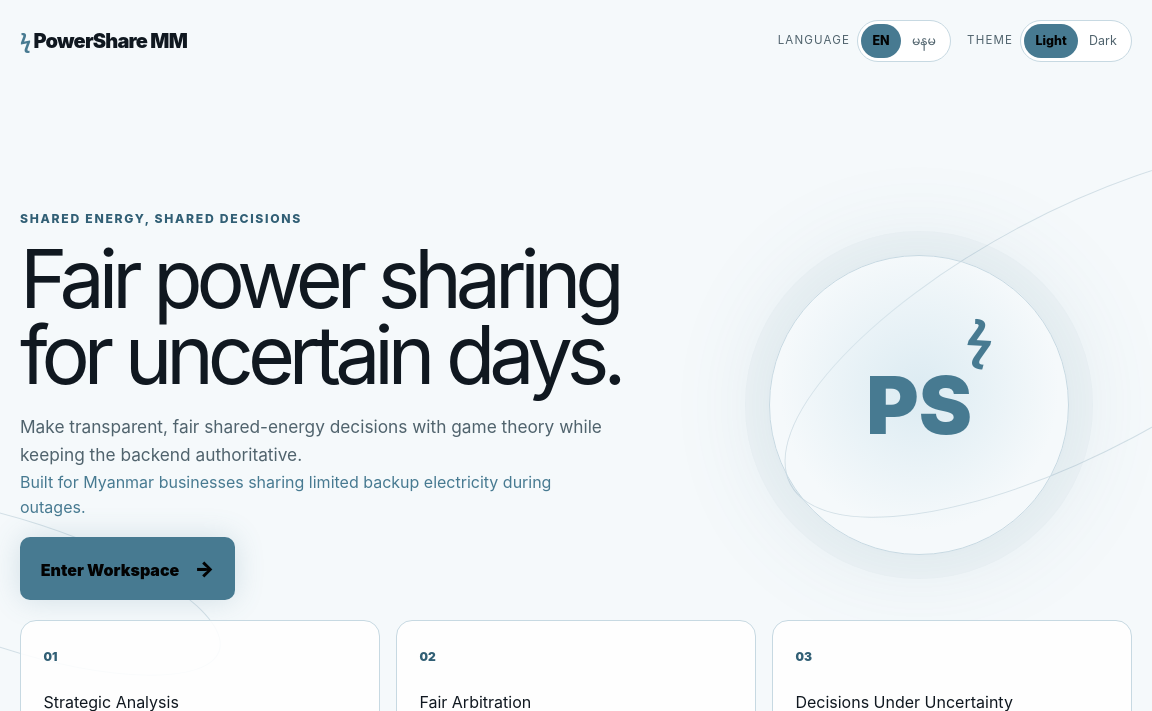
Scenario: PowerShare dashboard contract rendering › aborts request A when request B starts and ignores A AbortError
The image size is (1152, 711).
Click the button "Enter Workspace →" at (128, 568), box [20,537,235,600]
(page scrolled)
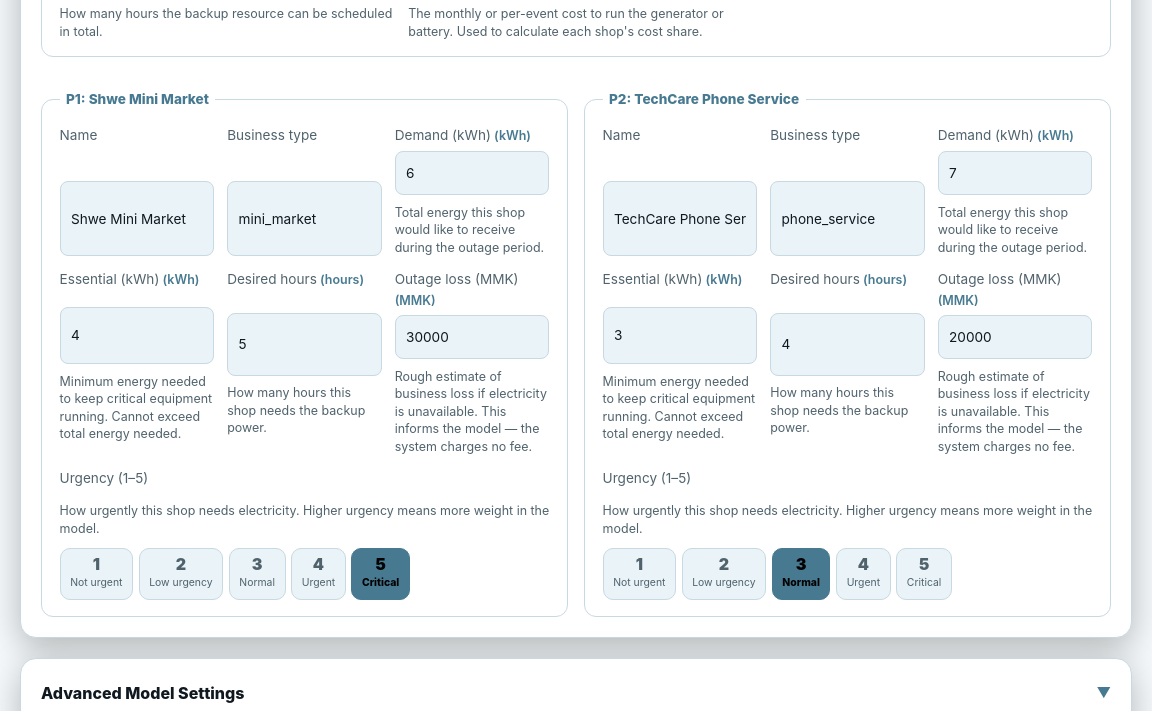
Submit the form named "Find a sharing recommendation"
Submit the form named "Find a sharing recommendation"
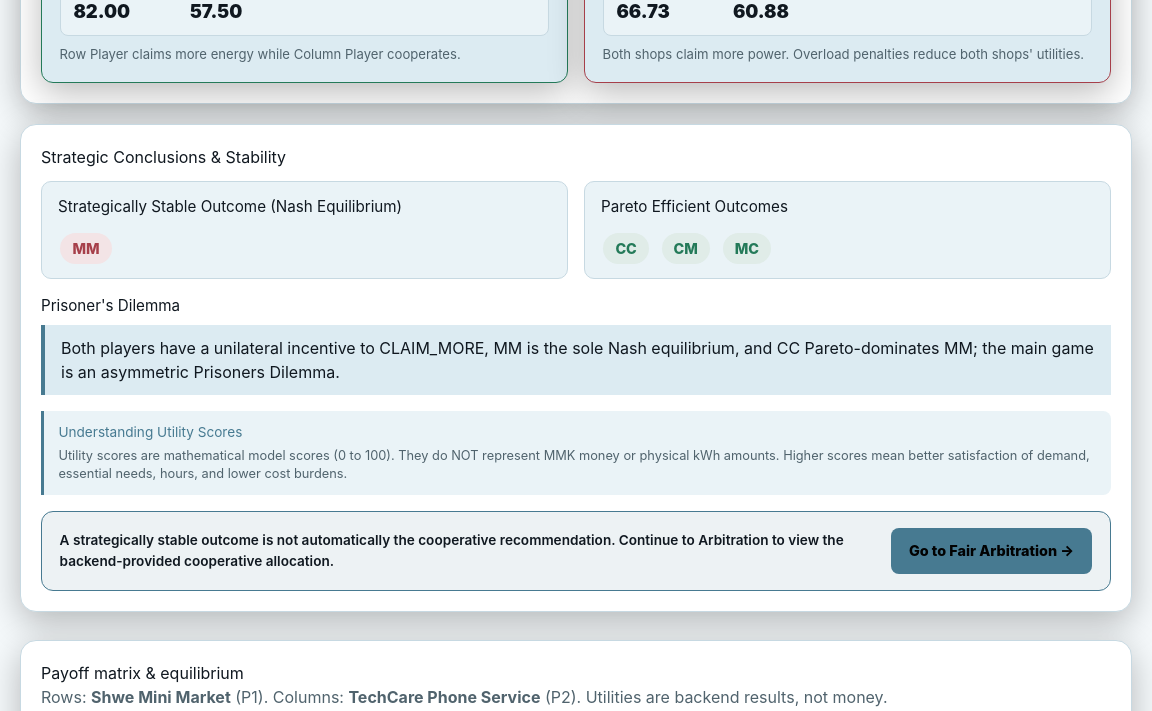
expect the heading "Payoff matrix & equilibrium" is shown: met, box [41,663,244,683]
